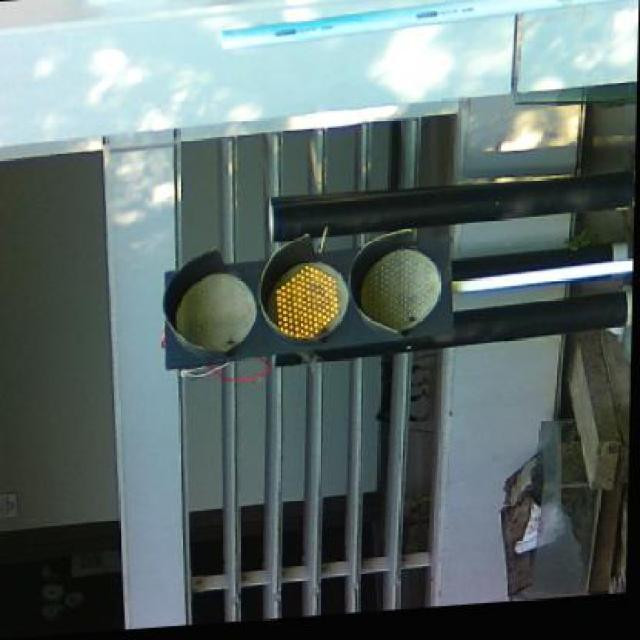yellow_light: (162, 230, 453, 369)
